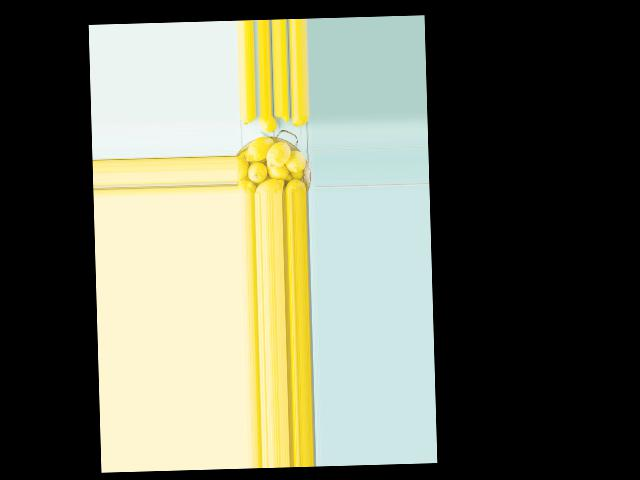lemon: (237, 180, 259, 195)
